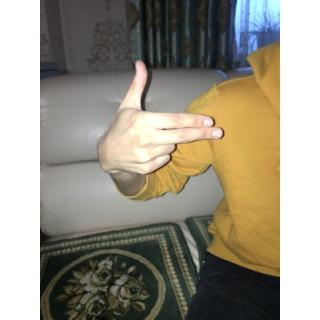GHAYN: (96, 53, 225, 179)
